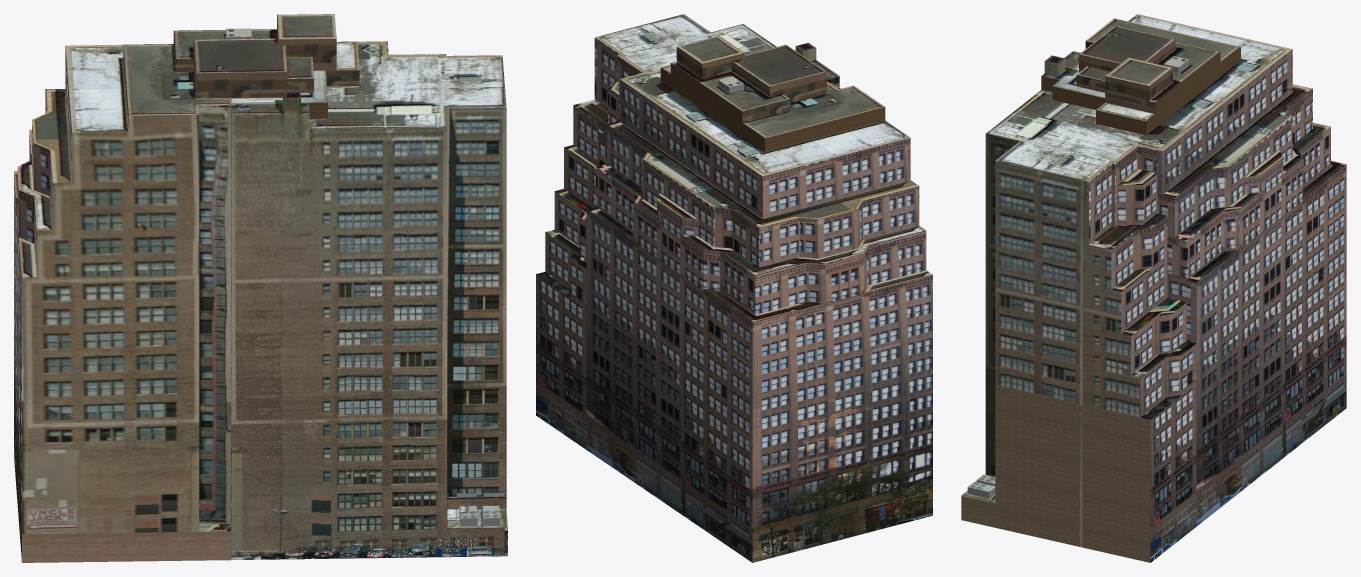
File: 370-west-35th-street.fbx
The picture shows the model from 3 angles, left to right: view 1: azimuth 30°, elevation 25°; view 2: azimuth 150°, elevation 25°; view 3: azimuth 270°, elevation 25°; orthographic projection. The views are drawn at different scales.
Parts seen in each view (by area): view 1: Model; view 2: Model; view 3: Model.
Part boxes in pixels (x1,y1,x2,y2): Model: (14,14,507,562); Model: (536,14,932,562); Model: (961,14,1346,562).
Size of the model in its own units: 2664 by 2562 by 2196.
